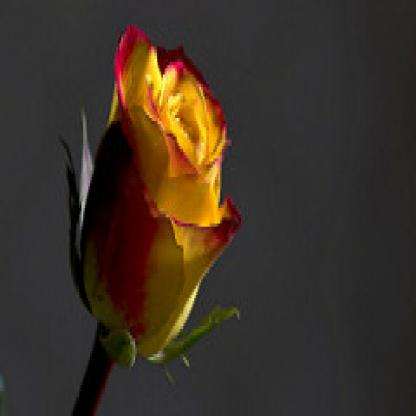ROSE-MAWAR: (50, 20, 254, 380)
